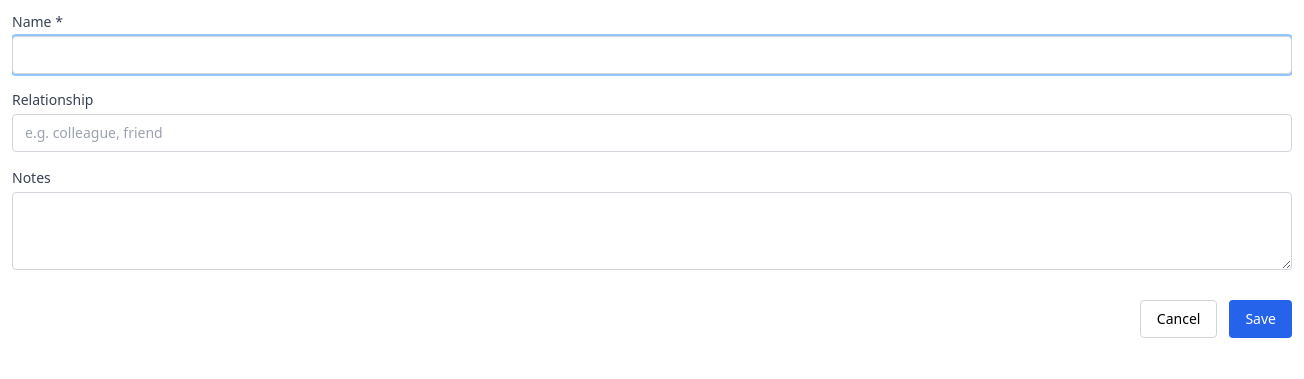
TC-U-01 — PersonForm blocks empty name with inline error › clears the error once a valid name is typed
The image size is (1304, 379).
Click the button "Save" at (1261,319), box [1229,300,1292,338]
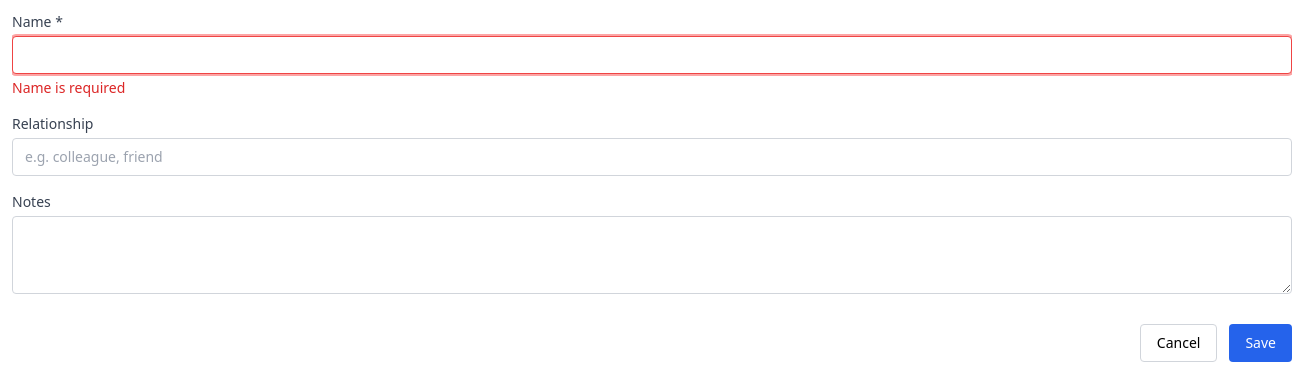
Expected: the message "Name is required" is shown, [12,78,125,97]
Type "Alice" into the field labelled "Name *" at (652,55), box [12,36,1292,74]
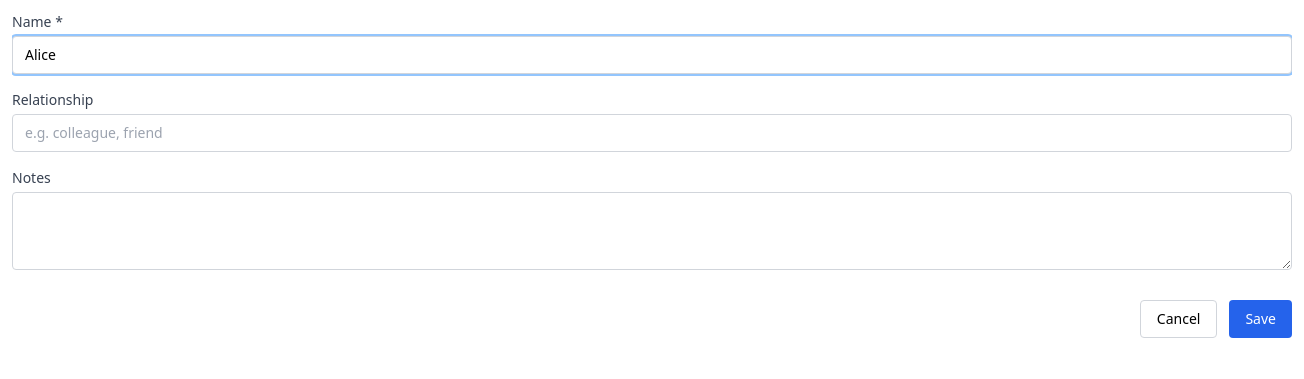
Expected: the message "Name is required" is gone
